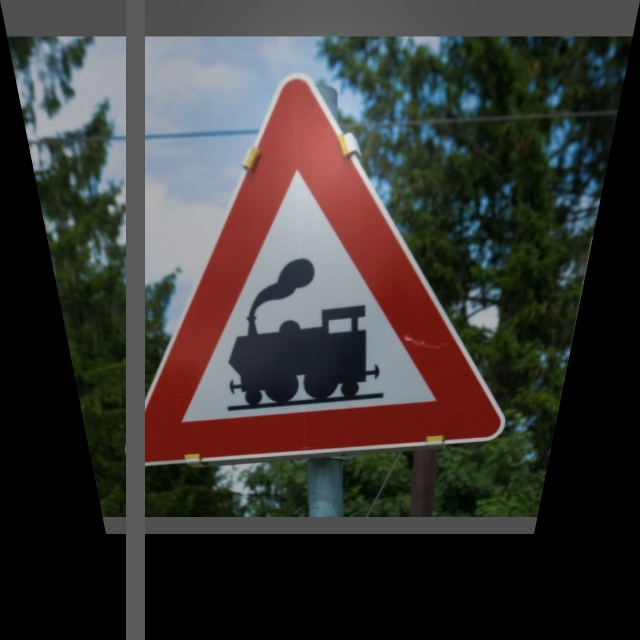Unguarded_Level_Crossing: (81, 78, 547, 457)
